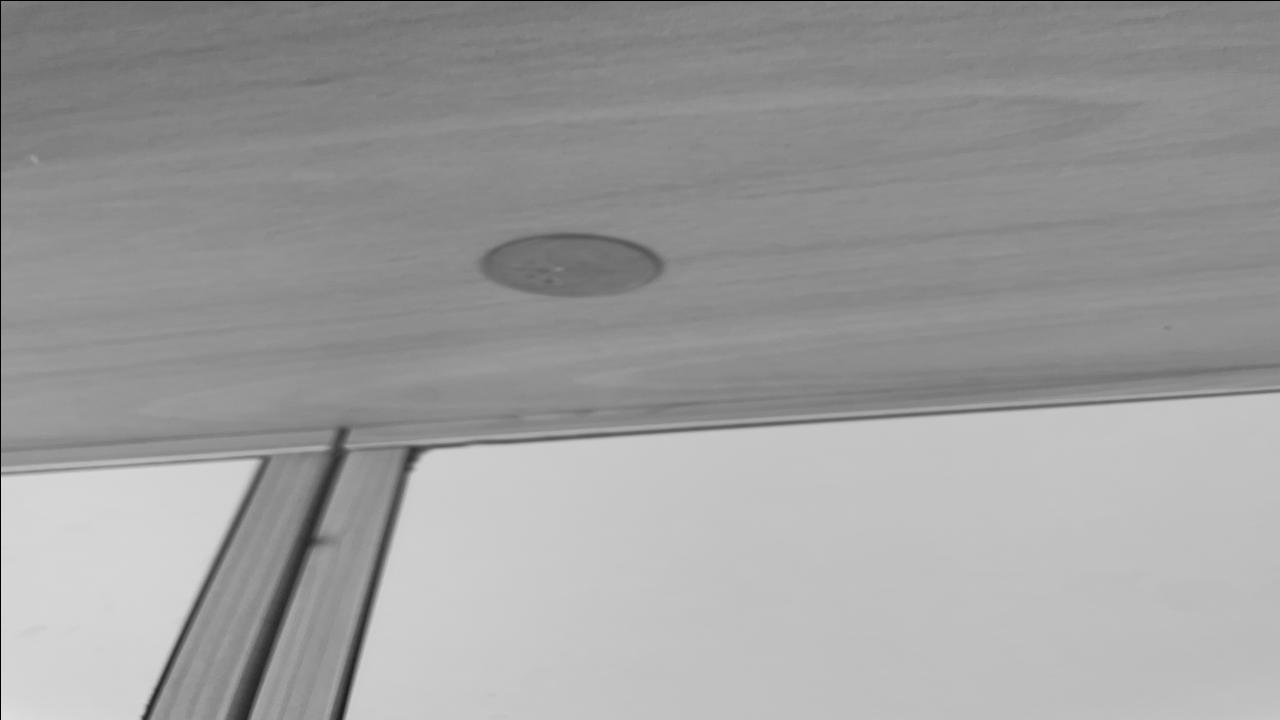coin: (474, 232, 667, 300)
